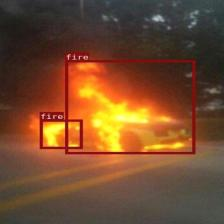fire: (64, 59, 194, 154), (39, 119, 82, 149)
